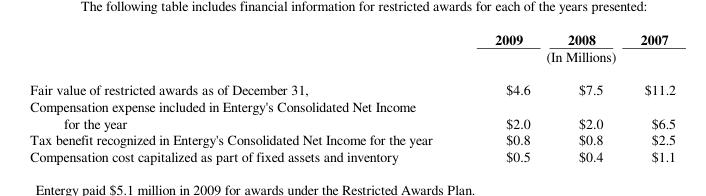table: (29, 29, 675, 164)
table column: (29, 29, 462, 164), (462, 29, 548, 164), (548, 29, 621, 164), (621, 29, 675, 164)
table column header: (29, 29, 675, 72)
table row: (29, 97, 675, 130), (29, 47, 675, 72), (29, 72, 675, 97), (29, 29, 675, 47), (29, 130, 675, 147), (29, 147, 675, 164)
table spanning cell: (462, 47, 675, 72)
